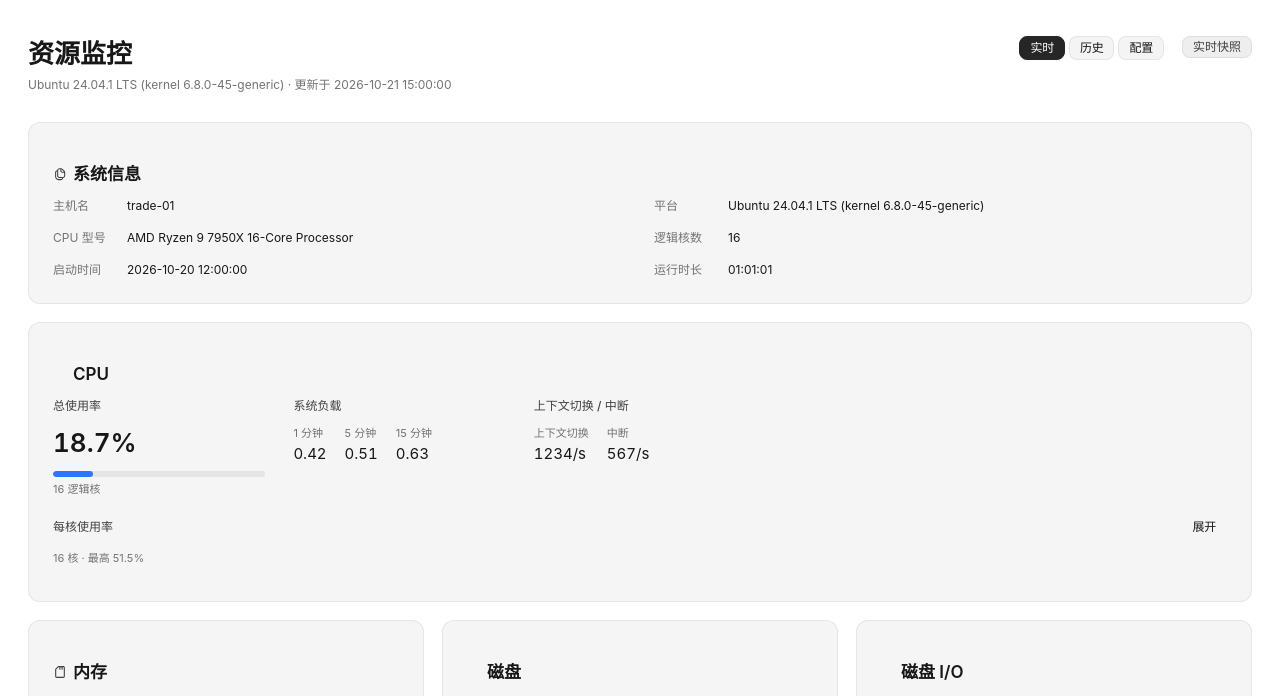
Test: MonitorView 历史视图（#79 三态） › 历史不可用（not_found）：显示降级文案，不渲染任何数据
The width and height of the screenshot is (1280, 696).
What coordinates should you click on to do the following:
click the tab with test id "monitor-tab-history"
I would click on:
 (1092, 48)
Its box is [1069,36,1114,60].
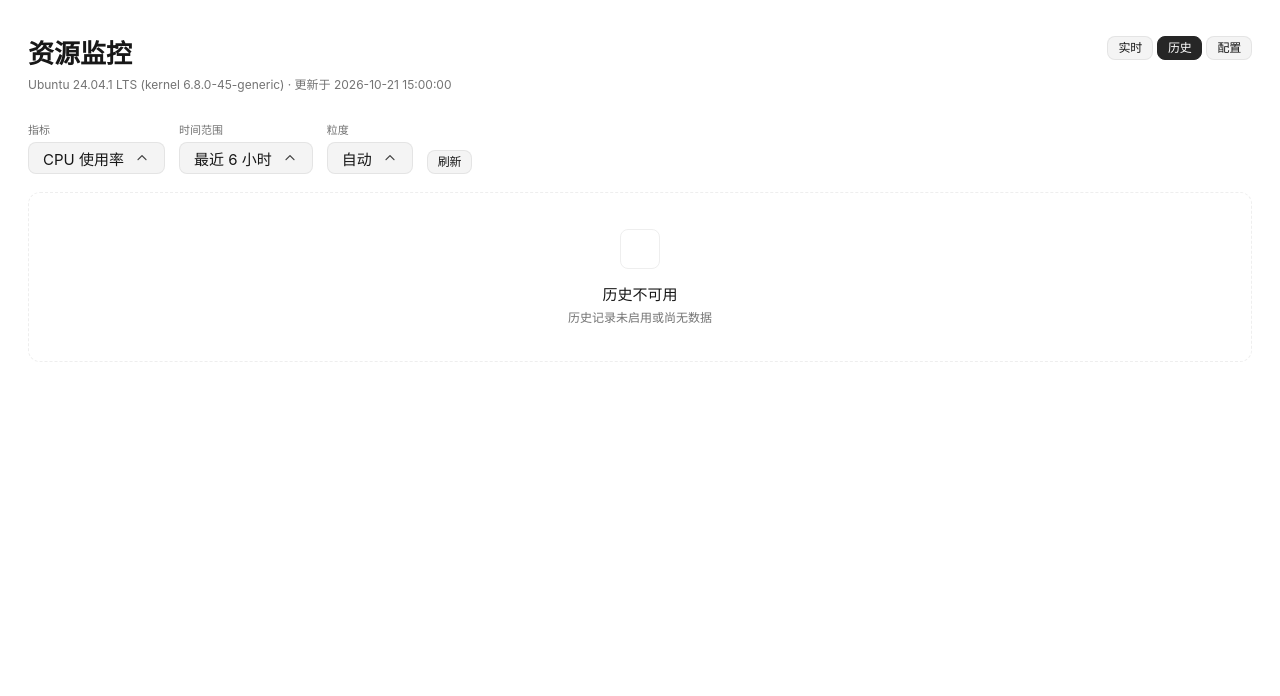
Now the element with test id "sysmon-history-unavailable" is shown, box [28,192,1252,362]
Now the text with test id "sysmon-history-unavailable-reason" reads "历史记录未启用或尚无数据", box [568,310,712,325]
